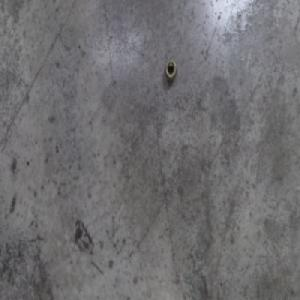Nut: (163, 59, 177, 83)
